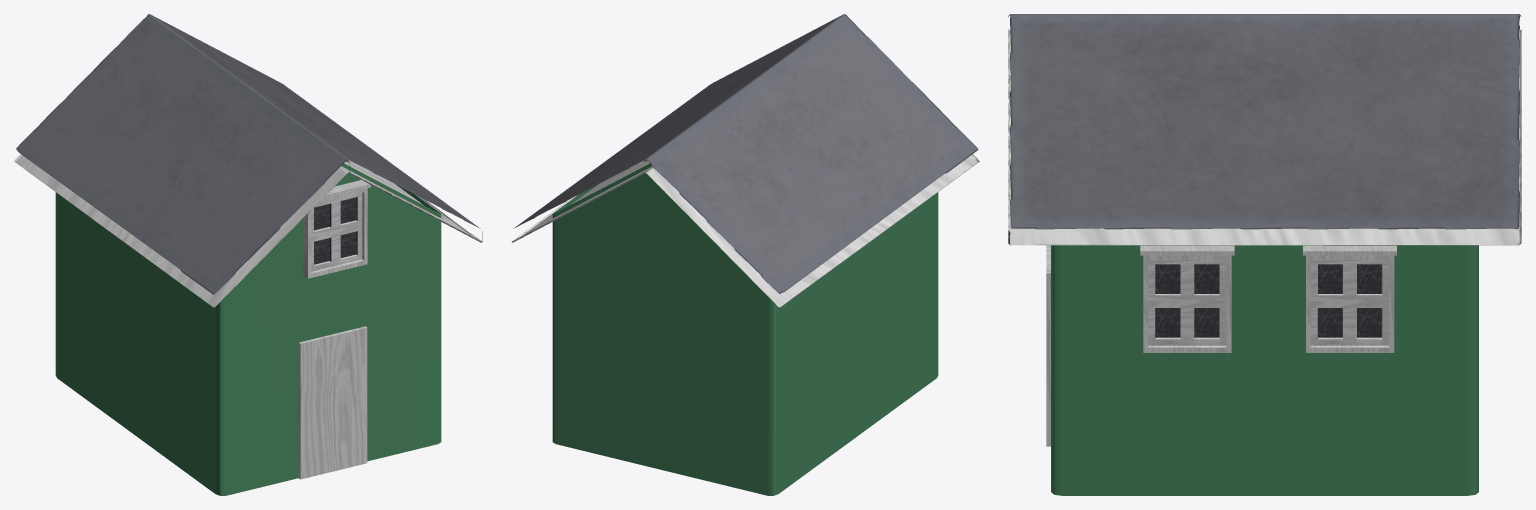
File: House_2.fbx
The picture shows the model from 3 angles, left to right: view 1: azimuth 30°, elevation 25°; view 2: azimuth 150°, elevation 25°; view 3: azimuth 270°, elevation 25°; orthographic projection. The views are drawn at different scales.
Visible parts, largest first — view 1: House_2; view 2: House_2; view 3: House_2.
Boxes of the visible parts, x1,y1,x2,y2 form: House_2: (14, 14, 482, 495); House_2: (511, 14, 979, 495); House_2: (1008, 14, 1521, 495).
Bounding box in the file's own units: 4.02 × 4.59 × 5.19.
